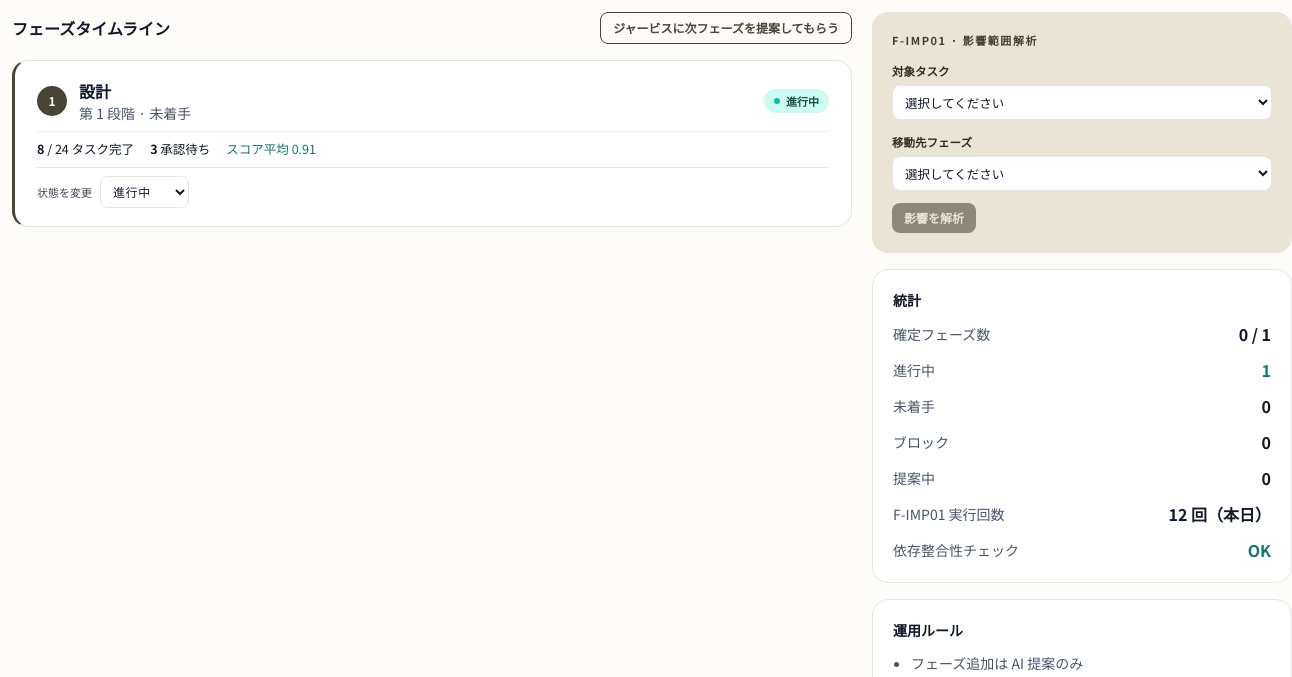
Test: S-F02 GAP-022 (AI 提案フェーズ + F-IMP01 + 集計) › runs the F-IMP01 impact analysis and applies it with auto refactor tasks
This screenshot has width=1292, height=677.
Select "T-042 実装" in the dropdown named "影響解析の対象タスク": (1082, 102) [892,84,1272,120]
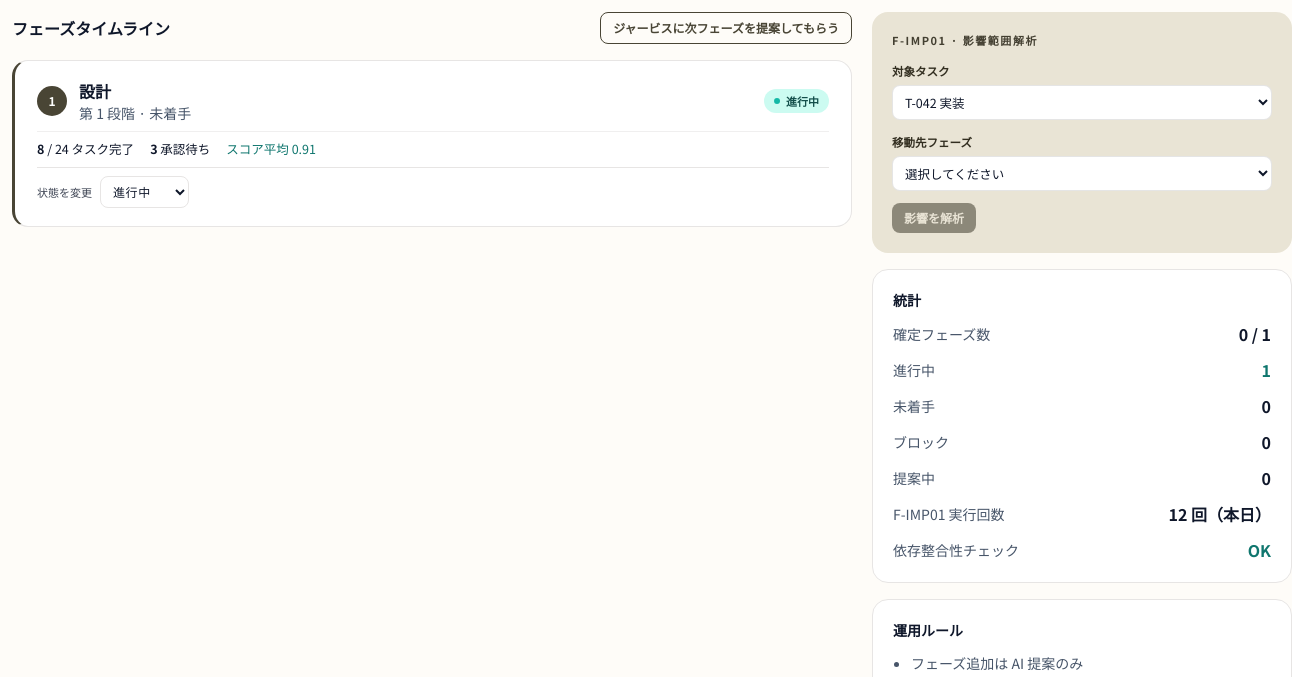
Select "第 1 段階 · 設計" in the dropdown labelled "移動先フェーズ": (1082, 173) [892,156,1272,190]
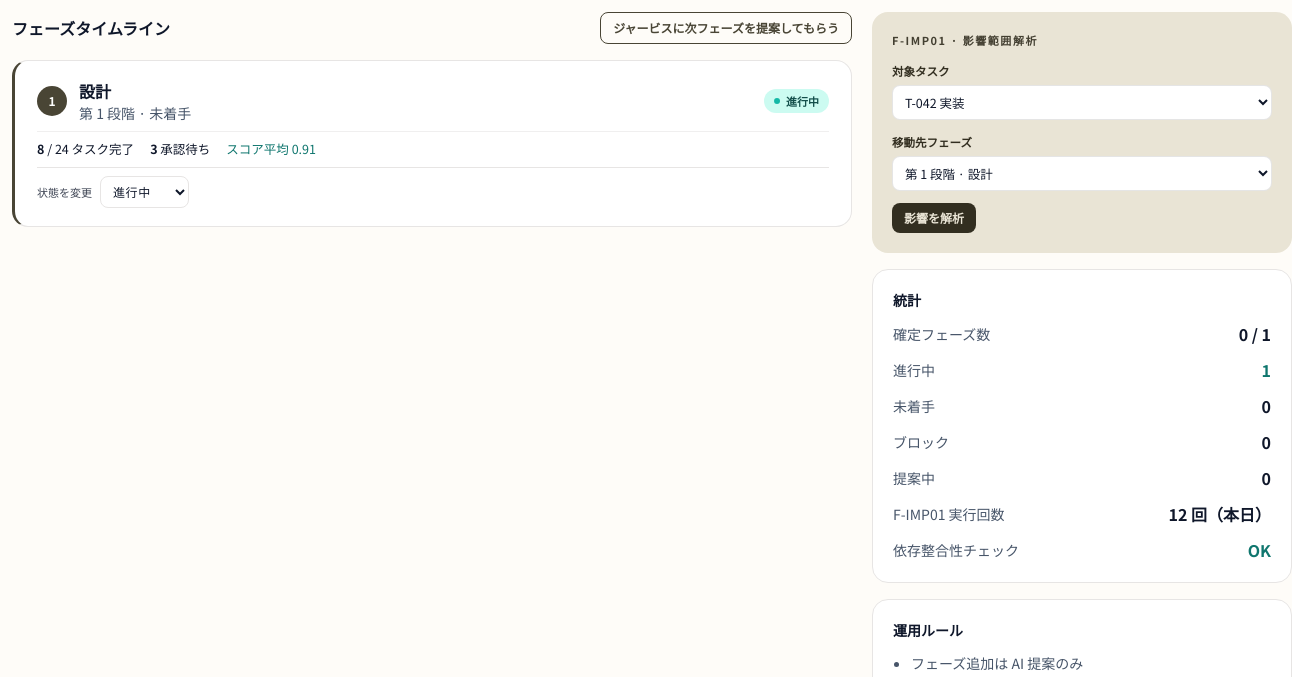
Click the button "影響を解析": (934, 218) [892,202,976,232]
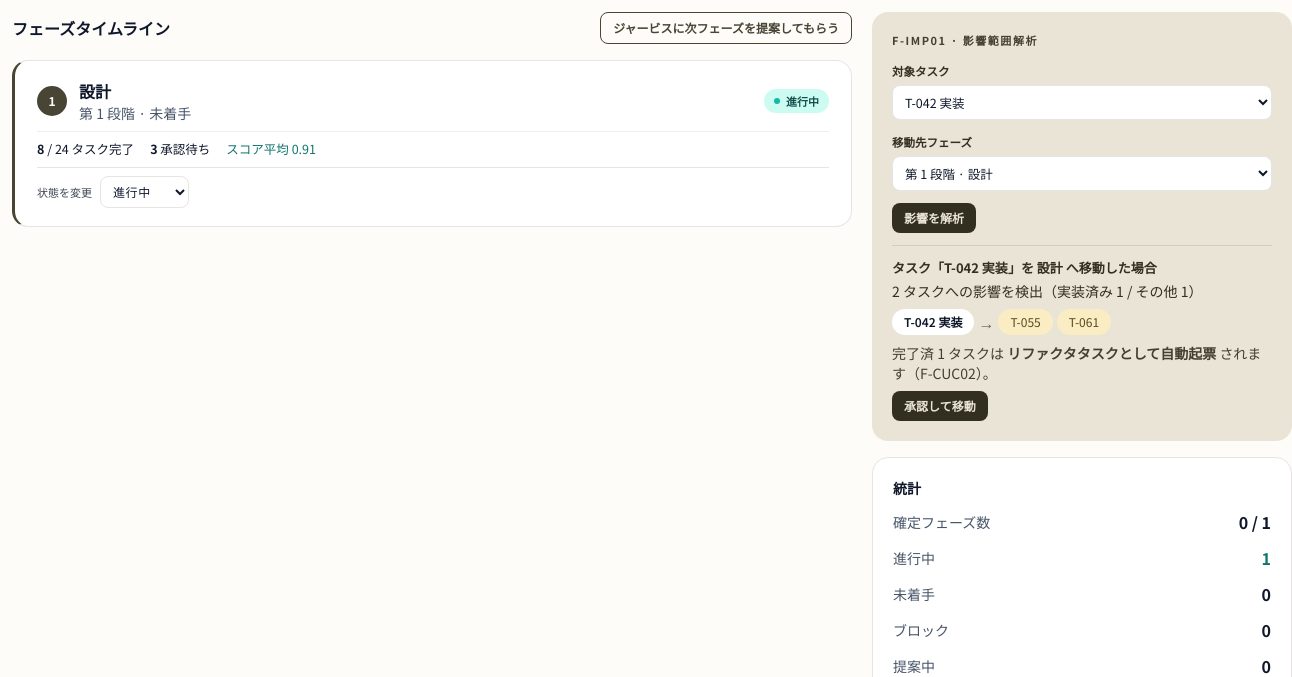
Expected: the text "2 タスクへの影響を検出（実装済み 1 / その他 1）" is shown, [892,281,1202,301]
Expected: the text "T-055" is shown, [998,309,1053,335]
Expected: the text "リファクタタスクとして自動起票" is shown, [1007,343,1216,363]
Click the button "承認して移動": (940, 406) [892,391,988,421]
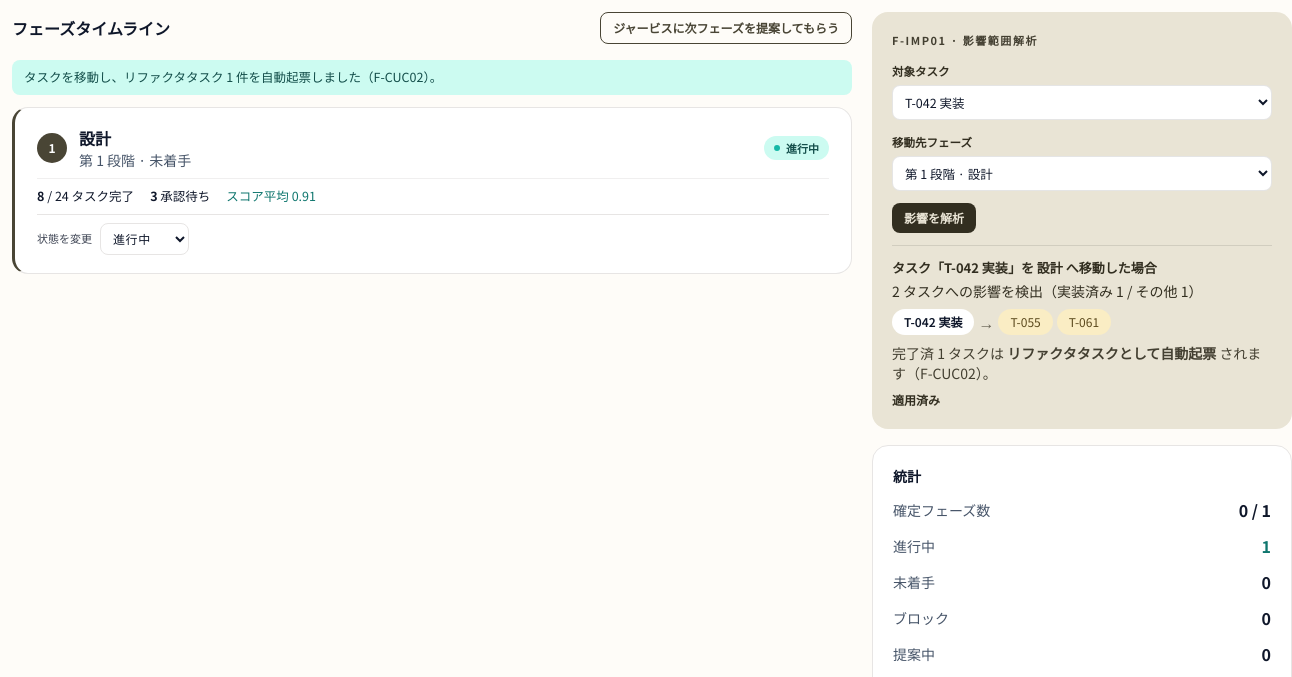
Expected: the text "タスクを移動し、リファクタタスク 1 件を自動起票しました（F-CUC02）。" is shown, [12,60,852,95]
Expected: the text "適用済み" is shown, [892,391,940,408]
